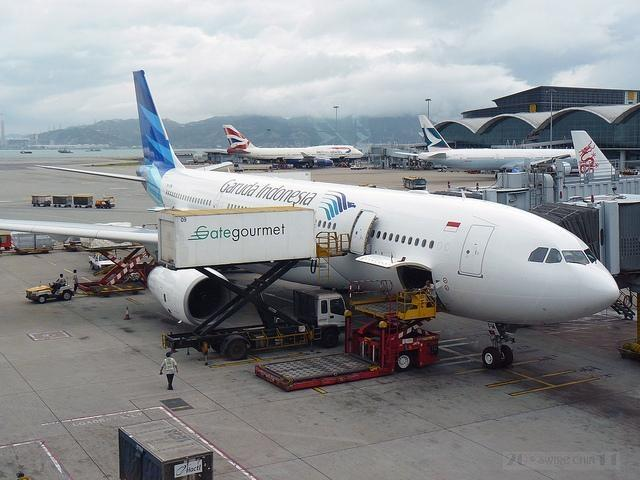bus: (402, 176, 426, 190)
car: (25, 283, 75, 303)
truck: (158, 206, 348, 360), (24, 284, 94, 303), (86, 252, 114, 270), (74, 195, 93, 206)
